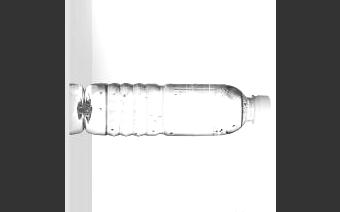bottle: (79, 80, 273, 140)
